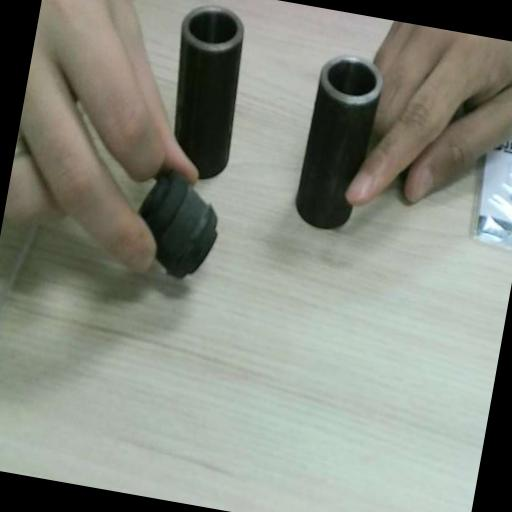peca: (295, 55, 382, 227), (174, 4, 243, 177), (139, 173, 216, 276)
